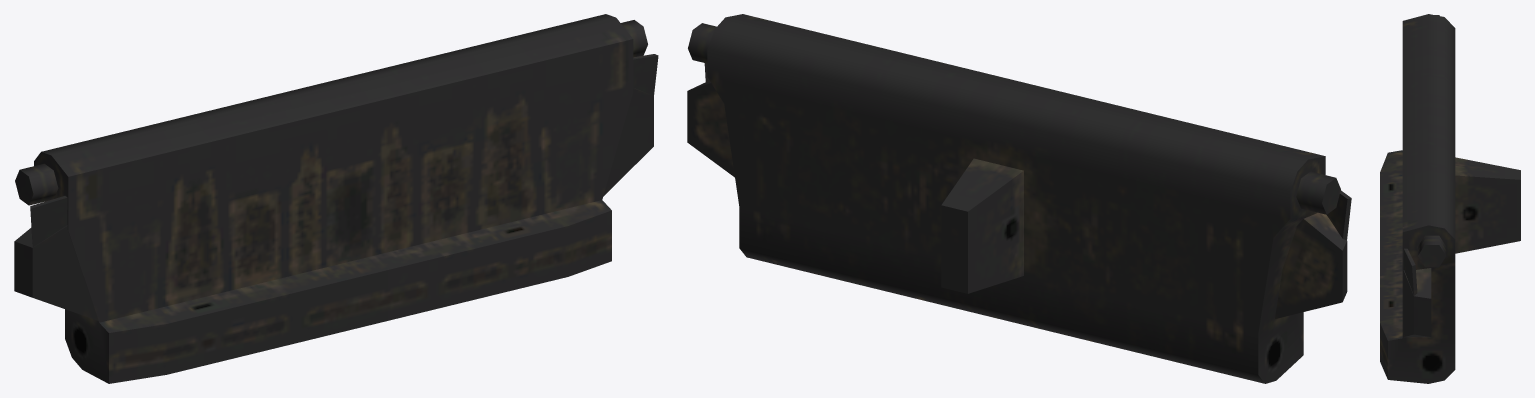
3 renders of one model, left to right at view 1: azimuth 30°, elevation 25°; view 2: azimuth 150°, elevation 25°; view 3: azimuth 270°, elevation 25°, orthographic. The views are drawn at different scales.
Parts seen in each view (by area): view 1: set_0_group_0; view 2: set_0_group_0; view 3: set_0_group_0.
Part boxes in pixels (bbox=[...]): set_0_group_0: bbox=[14, 14, 658, 383]; set_0_group_0: bbox=[687, 14, 1351, 383]; set_0_group_0: bbox=[1380, 14, 1520, 383].
Bounding box in the file's own units: 0.5994 × 0.2001 × 0.1502.
1 material, 1 textured.
